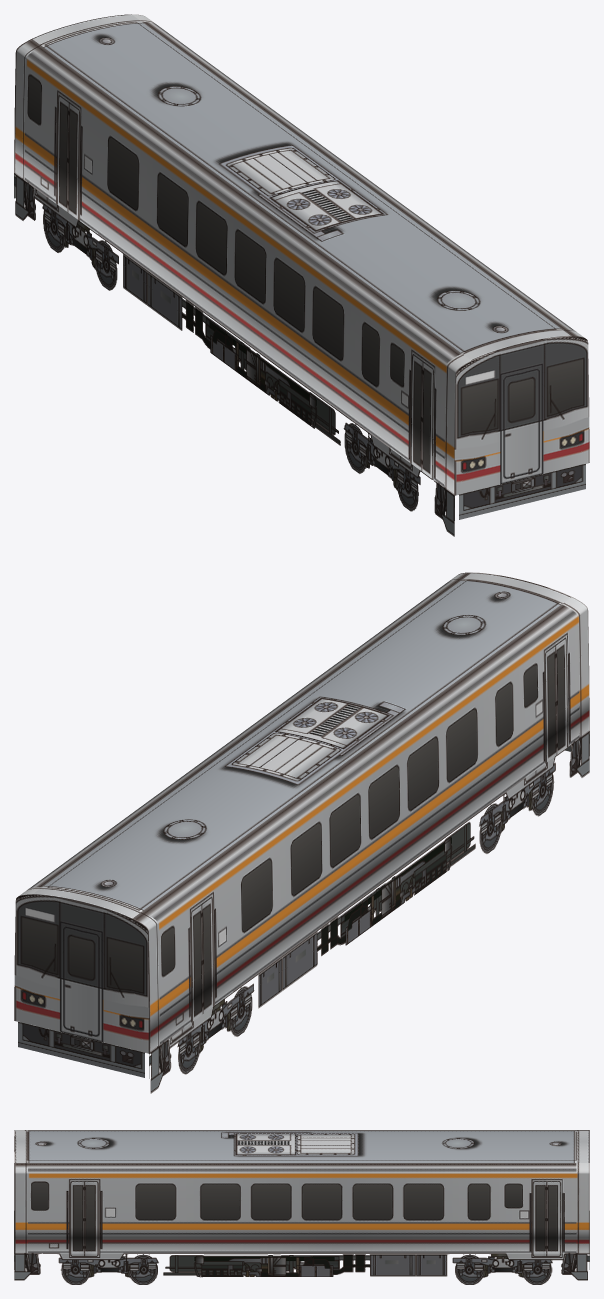
The model's file is car1.glb.
3 views of the same model, one above another, from view 1: azimuth 30°, elevation 25°; view 2: azimuth 150°, elevation 25°; view 3: azimuth 270°, elevation 25° (orthographic). The views are drawn at different scales.
Visible parts, largest first — view 1: kiha120-okayama-car1; view 2: kiha120-okayama-car1; view 3: kiha120-okayama-car1.
Boxes of the visible parts, x1,y1,x2,y2 form: kiha120-okayama-car1: (14, 14, 589, 536); kiha120-okayama-car1: (14, 572, 589, 1093); kiha120-okayama-car1: (14, 1130, 589, 1284).
Size of the model in its own units: 2.8 by 3.62 by 15.83.
8 materials, 7 textured.
